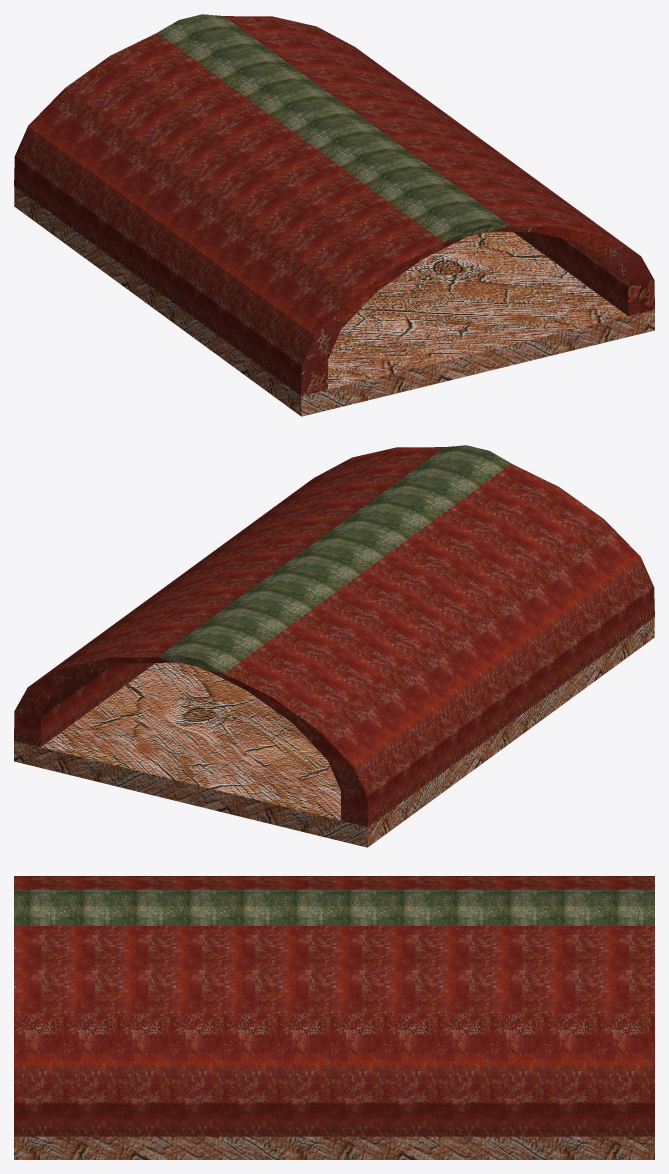
The model's file is shortdome.glb.
3 renders of one model, top to bottom at view 1: azimuth 30°, elevation 25°; view 2: azimuth 150°, elevation 25°; view 3: azimuth 270°, elevation 25°, orthographic. The views are drawn at different scales.
Visible parts, largest first — view 1: shortdome; view 2: shortdome; view 3: shortdome.
Boxes of the visible parts, <box> form: shortdome: <box>14,14,654,416</box>; shortdome: <box>14,445,654,847</box>; shortdome: <box>14,876,654,1159</box>.
Bounding box in the file's own units: 27.34 × 10.81 × 38.41.
Materials: 3 (3 with a texture image).
